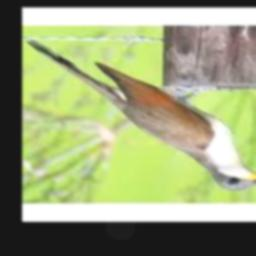Cuckoo: (29, 40, 256, 192)
